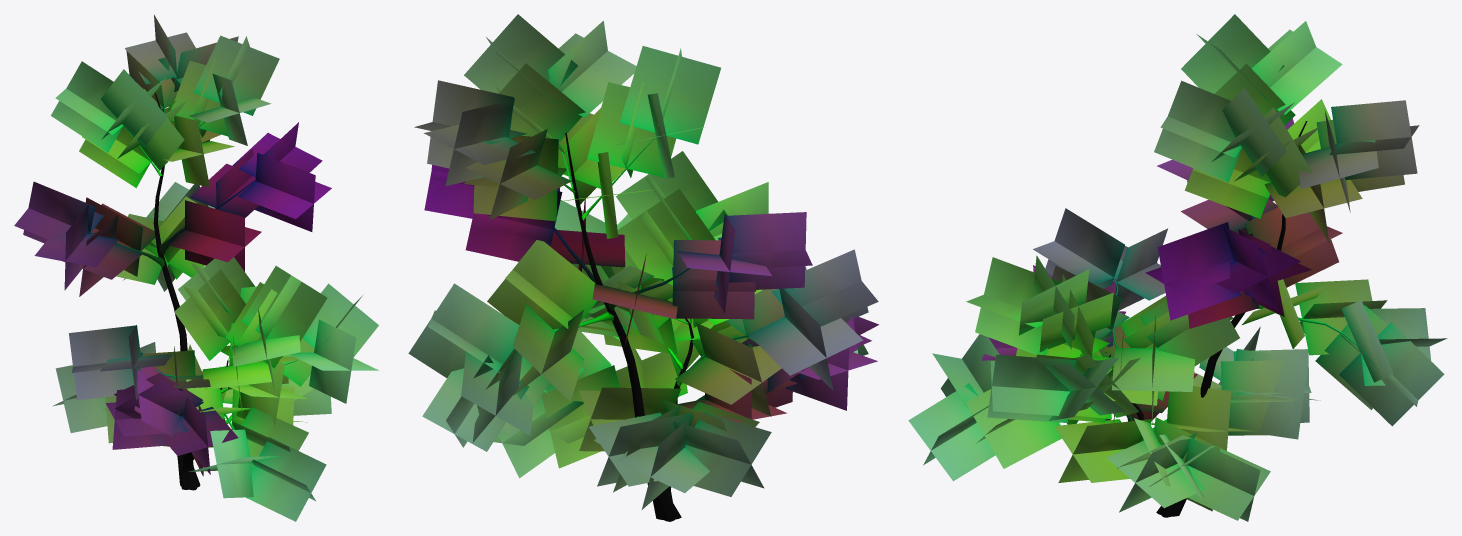
The model's file is URP_P3_Tree_5_LOD_1.fbx.
3 renders of one model, left to right at view 1: azimuth 30°, elevation 25°; view 2: azimuth 150°, elevation 25°; view 3: azimuth 270°, elevation 25°, orthographic. The views are drawn at different scales.
Parts seen in each view (by area): view 1: Tree_5_LOD_1; view 2: Tree_5_LOD_1; view 3: Tree_5_LOD_1.
Part boxes in pixels (x1,y1,x2,y2): Tree_5_LOD_1: [14, 14, 378, 521]; Tree_5_LOD_1: [408, 14, 878, 521]; Tree_5_LOD_1: [908, 14, 1447, 521].
Size of the model in its own units: 564 by 732 by 750.
